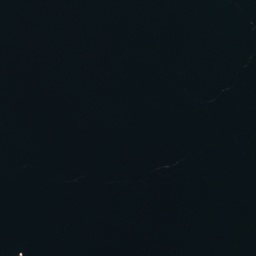Ship: (18, 253, 23, 256)
